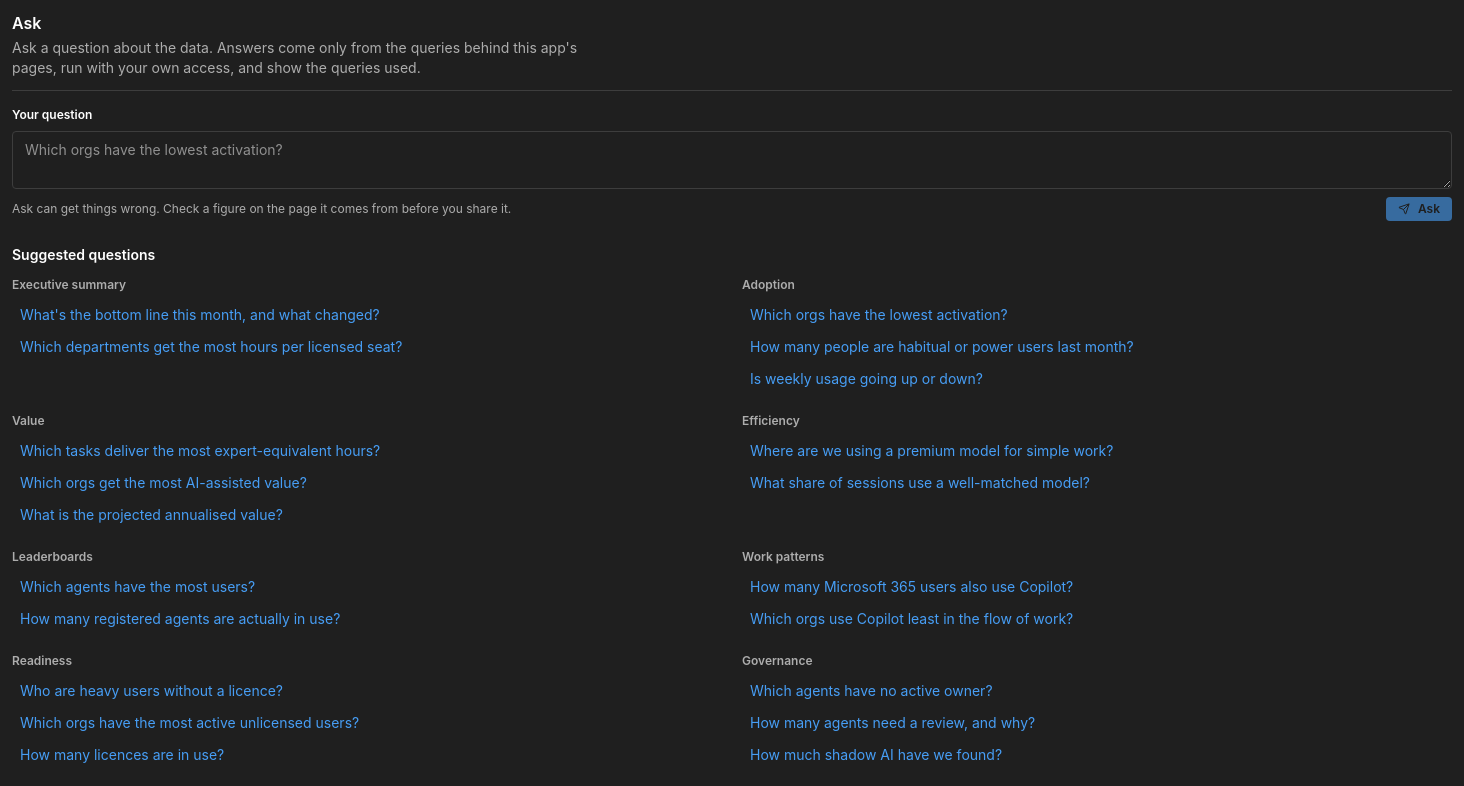
it: AskScreen › answers on Azure, shows the queries behind the answer, and sends the conversation so far
Click the button "What's the bottom line this month, and what changed?" at (367, 315), box top-left (12, 301), bottom-right (722, 329)
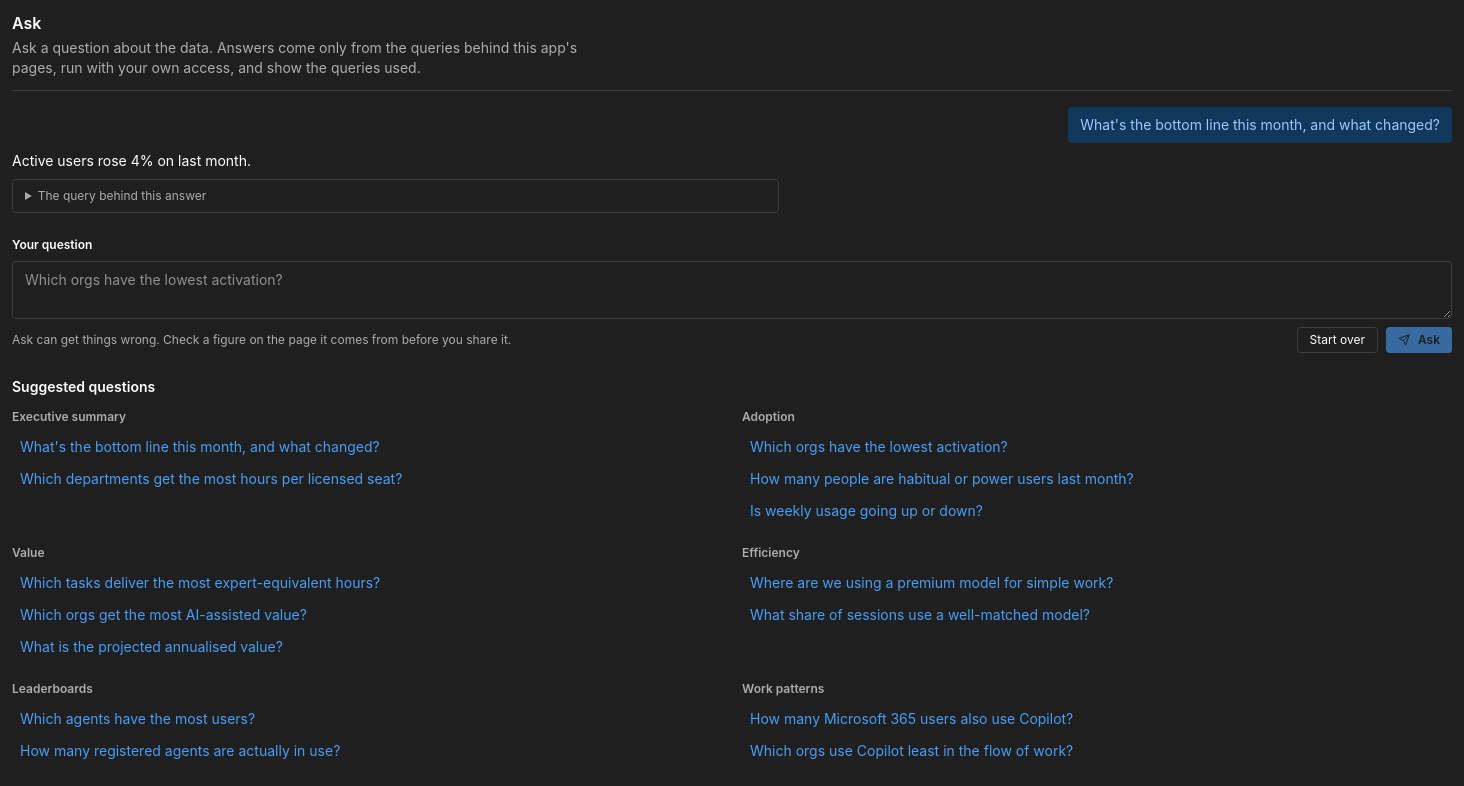
Now the text "Active users rose 4% on last month." is shown, box top-left (12, 152), bottom-right (251, 169)
Now the heading "The query behind this answer" is shown, box top-left (38, 188), bottom-right (206, 203)
Type "Which org grew most?" into the text box labelled "Your question" at (732, 290), box top-left (12, 261), bottom-right (1452, 319)
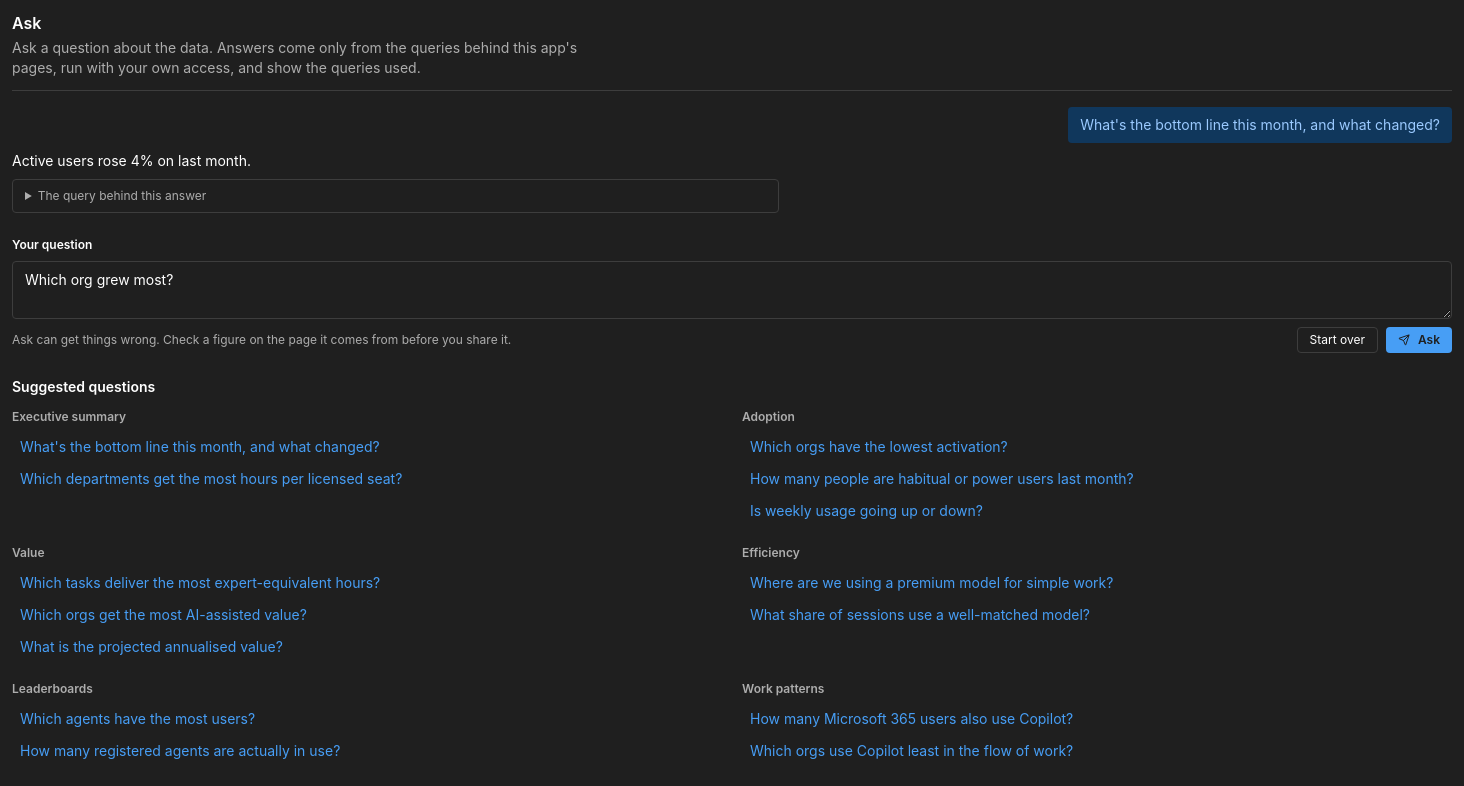
Click the button "Ask" at (1419, 340), box top-left (1386, 327), bottom-right (1452, 353)
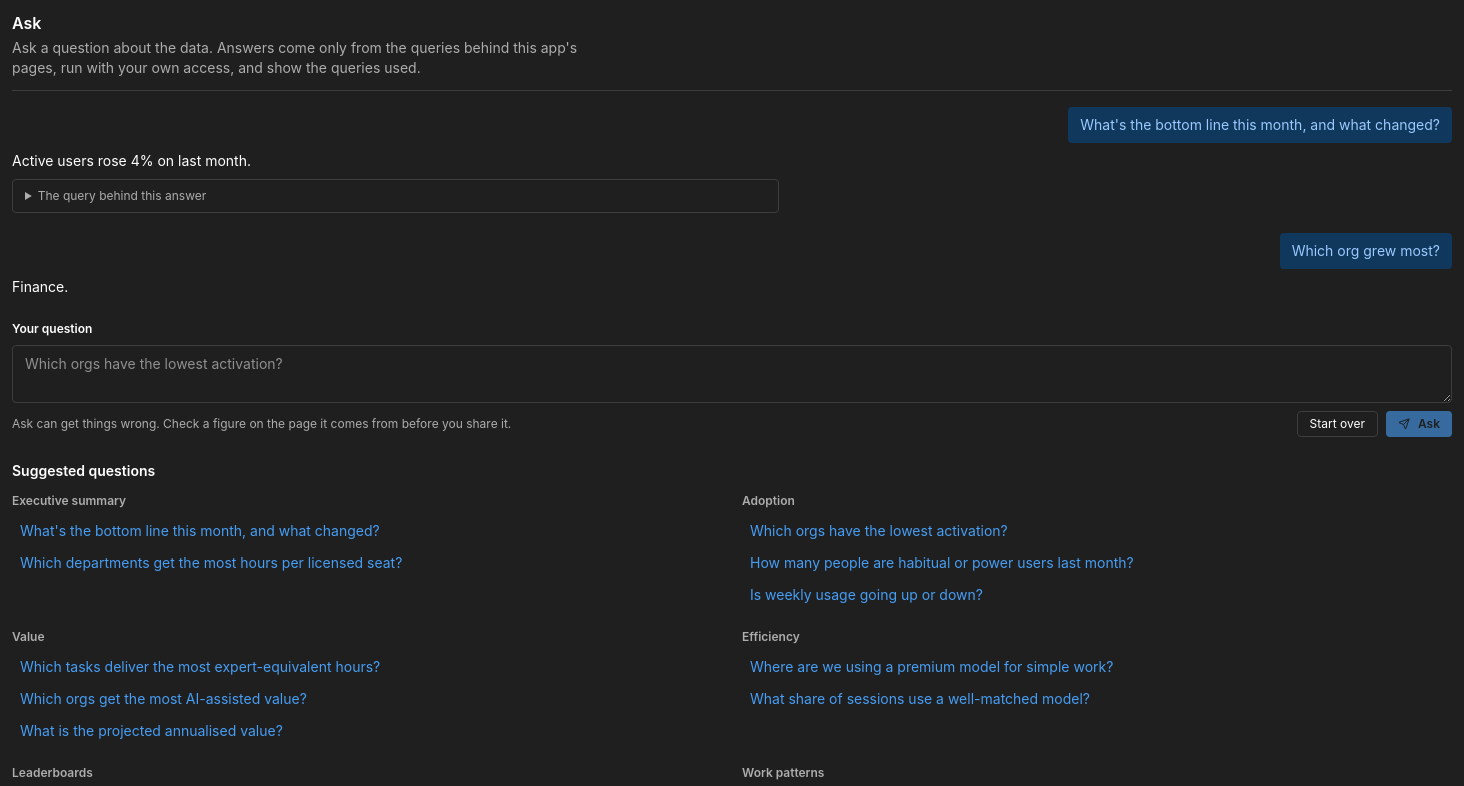
Now the text "Finance." is shown, box top-left (12, 278), bottom-right (68, 295)
